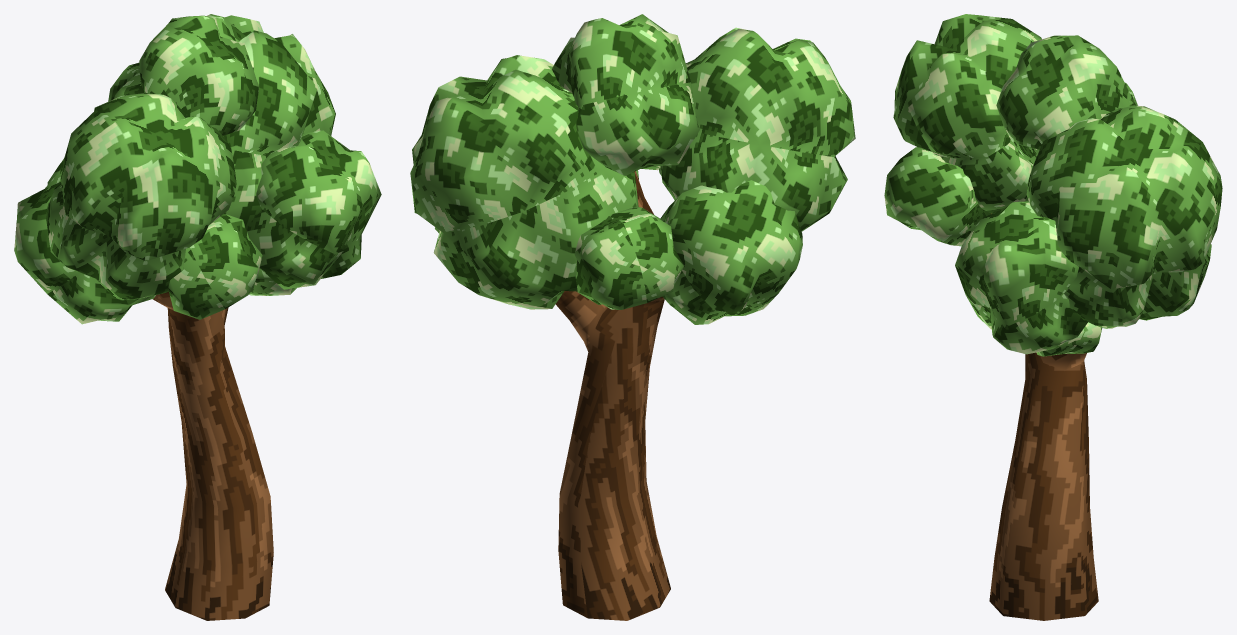
File: Tree 2 Reduced.fbx
The picture shows the model from 3 angles, left to right: view 1: azimuth 30°, elevation 25°; view 2: azimuth 150°, elevation 25°; view 3: azimuth 270°, elevation 25°; orthographic projection. The views are drawn at different scales.
Visible parts, largest first — view 1: Tree_Combined; view 2: Tree_Combined; view 3: Tree_Combined.
Boxes of the visible parts, left/top/right/bottom form: Tree_Combined: left=14, top=14, right=381, bottom=620; Tree_Combined: left=410, top=14, right=855, bottom=620; Tree_Combined: left=884, top=14, right=1222, bottom=620.
Bounding box in the file's own units: 84.65 × 137 × 75.82.
1 material, 1 textured.
